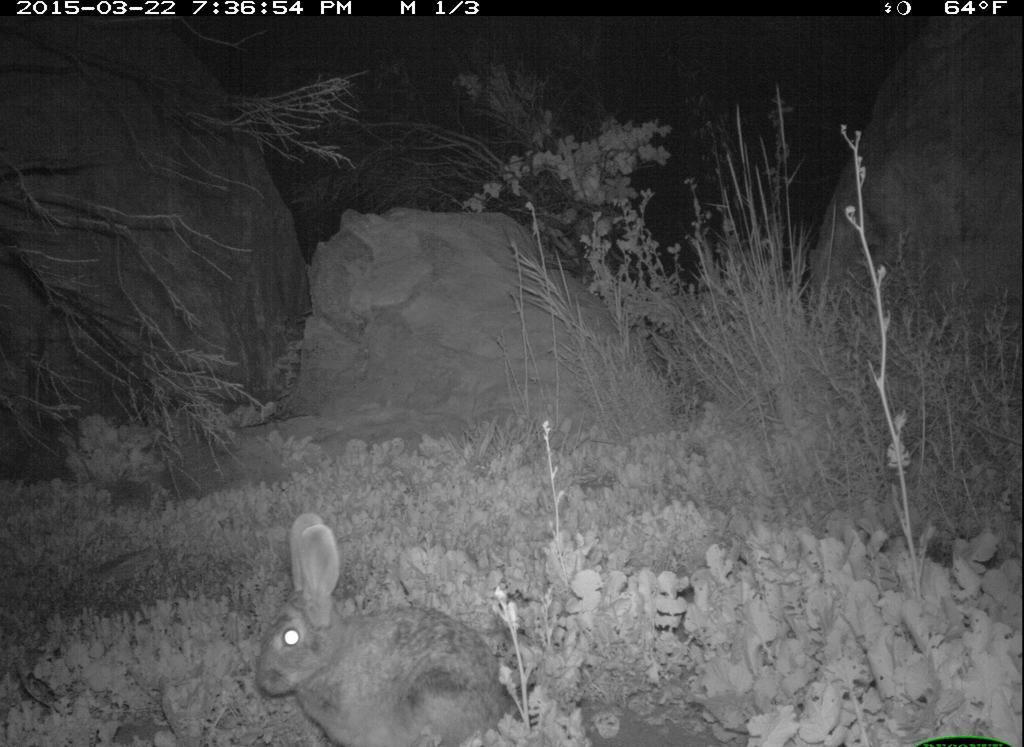rabbit: (257, 501, 519, 742)
